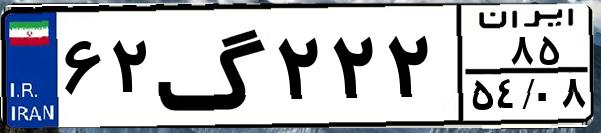0: (535, 70, 560, 125)
2: (270, 28, 330, 110), (385, 28, 445, 110), (330, 28, 385, 110), (110, 28, 156, 98)
4: (495, 70, 520, 125)
5: (537, 27, 568, 80), (470, 70, 495, 125)
6: (57, 26, 110, 100)
8: (560, 70, 590, 125), (508, 27, 537, 80)
گ: (156, 12, 270, 120)
